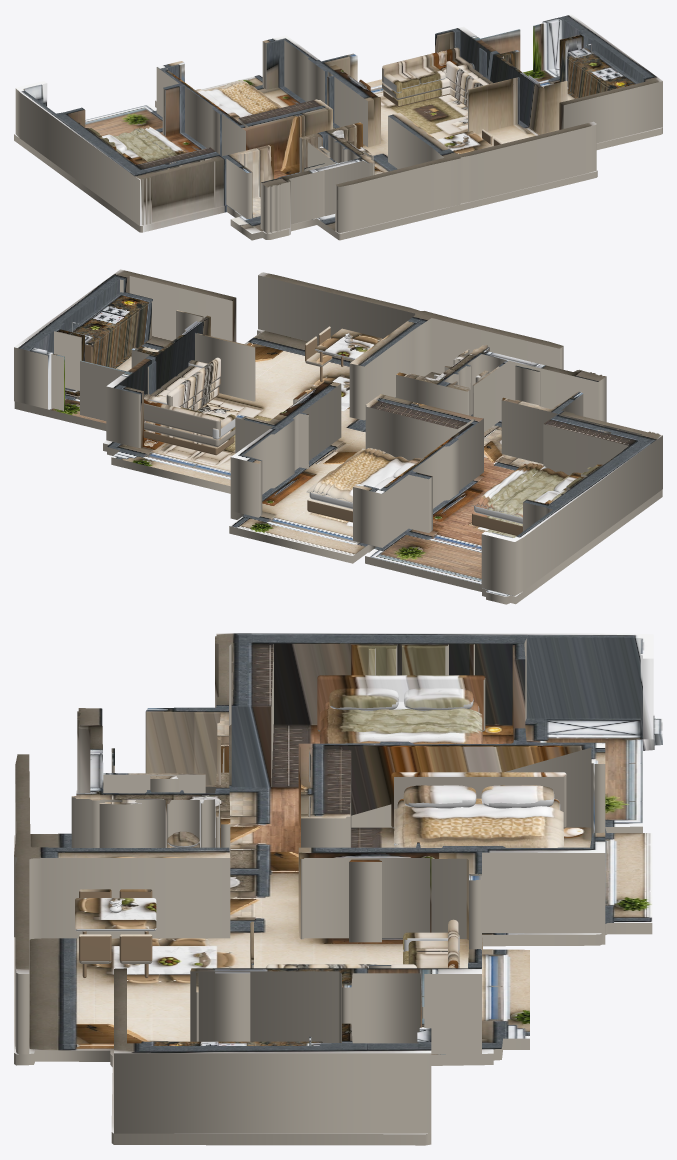
The model's file is p2-07-u08-2112-image-model.glb.
3 views of the same model, one above another, from view 1: azimuth 30°, elevation 25°; view 2: azimuth 150°, elevation 25°; view 3: azimuth 270°, elevation 25° (orthographic). The views are drawn at different scales.
Visible parts, largest first — view 1: Partition walls, Apartment floor, Draped bed linen.002, Sofa back, Draped bed linen, Kitchen cabinets, Stone worktop, Marble dining top, Upholstered sofa frame, Draped bed linen.003, Sofa back.001, Draped bed linen.001 (+2 smaller); view 2: Partition walls, Apartment floor, Kitchen cabinets, Draped bed linen.002, Draped bed linen, Sofa back, Stone worktop, Sofa back.001, Marble dining top, Draped bed linen.003, Draped bed linen.001, Upholstered sofa frame (+3 smaller); view 3: Partition walls, Apartment floor, Draped bed linen.002, Draped bed linen, Upholstered headboard.001, Upholstered headboard, Marble dining top, Draped bed linen.003, Draped bed linen.001, Tailored pillow.002, Tailored pillow.003, Tailored pillow (+4 smaller).
Part boxes in pixels (x1,y1,x2,y2): Partition walls: [15, 14, 662, 233]; Apartment floor: [14, 67, 662, 240]; Draped bed linen.002: [204, 81, 281, 117]; Sofa back: [382, 47, 460, 81]; Draped bed linen: [112, 127, 186, 161]; Kitchen cabinets: [568, 59, 610, 97]; Stone worktop: [567, 50, 638, 89]; Marble dining top: [438, 131, 492, 154]; Upholstered sofa frame: [382, 77, 449, 99]; Draped bed linen.003: [226, 80, 279, 111]; Sofa back.001: [446, 61, 482, 93]; Draped bed linen.001: [133, 125, 185, 156]; Partition walls: [14, 269, 662, 595]; Apartment floor: [14, 329, 662, 604]; Kitchen cabinets: [85, 302, 151, 367]; Draped bed linen.002: [306, 448, 410, 502]; Draped bed linen: [471, 463, 569, 517]; Sofa back: [144, 399, 220, 436]; Stone worktop: [67, 292, 152, 345]; Sofa back.001: [166, 357, 220, 406]; Marble dining top: [315, 328, 382, 359]; Draped bed linen.003: [312, 448, 385, 495]; Draped bed linen.001: [476, 463, 546, 508]; Upholstered sofa frame: [144, 420, 235, 446]; Partition walls: [14, 633, 653, 1133]; Apartment floor: [14, 714, 662, 1145]; Draped bed linen.002: [394, 806, 563, 847]; Draped bed linen: [320, 708, 482, 744]; Upholstered headboard.001: [391, 772, 566, 828]; Upholstered headboard: [317, 675, 485, 731]; Marble dining top: [75, 898, 156, 931]; Draped bed linen.003: [394, 825, 563, 846]; Draped bed linen.001: [320, 726, 482, 743]; Tailored pillow.002: [403, 785, 476, 808]; Tailored pillow.003: [481, 785, 554, 808]; Tailored pillow: [329, 688, 398, 710].
Size of the model in its own units: 12.78 by 1.3 by 8.34.
14 materials, 3 textured.
